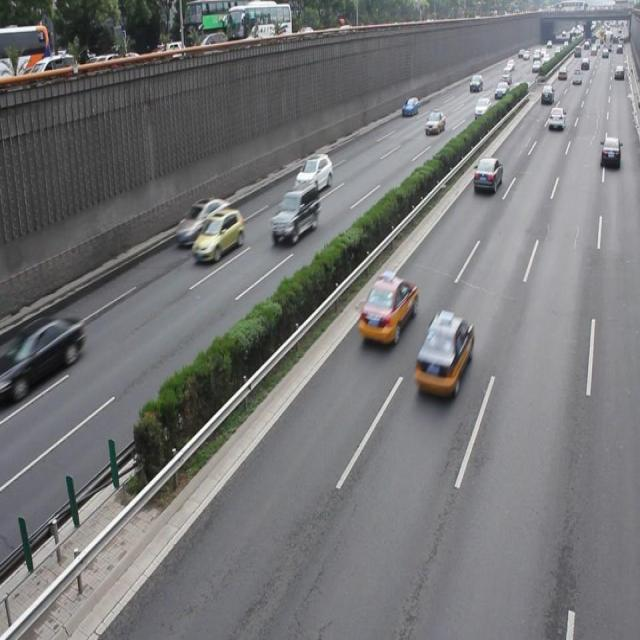car: (0, 316, 84, 400), (413, 311, 472, 395), (358, 270, 417, 345), (270, 180, 320, 244), (191, 206, 245, 262), (176, 194, 231, 247), (295, 153, 332, 192), (472, 154, 503, 194)
